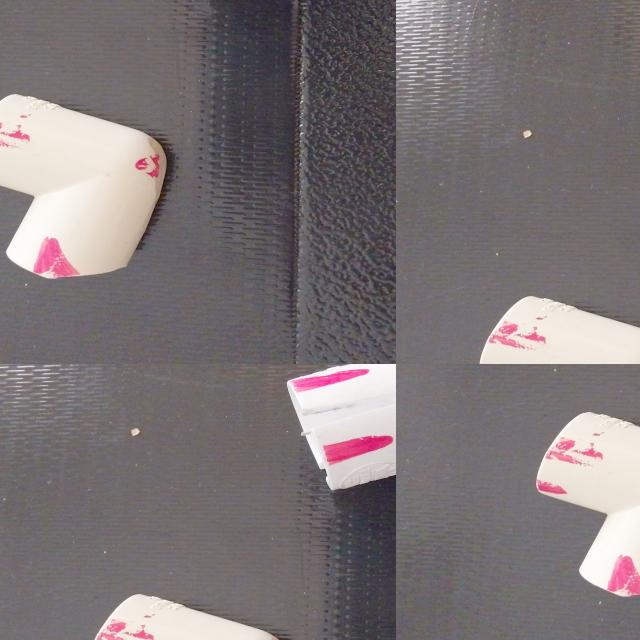Defective: (544, 431, 627, 480), (156, 137, 202, 217), (596, 553, 640, 603), (150, 344, 256, 364), (445, 0, 453, 2)
L Joint: (37, 127, 297, 364), (536, 413, 640, 598)
T Joint: (396, 0, 453, 20)
